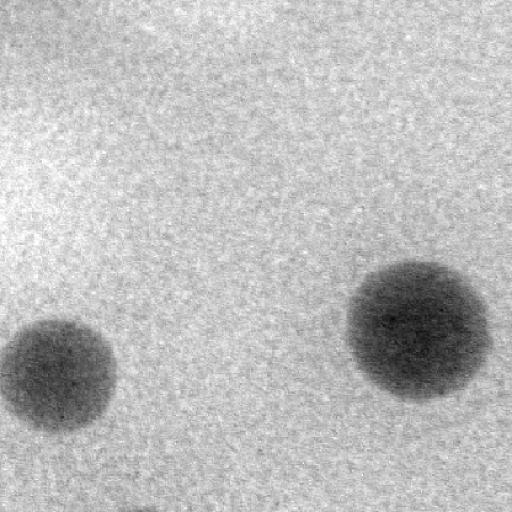Nanoparticles: (344, 258, 494, 402), (0, 316, 120, 436)
